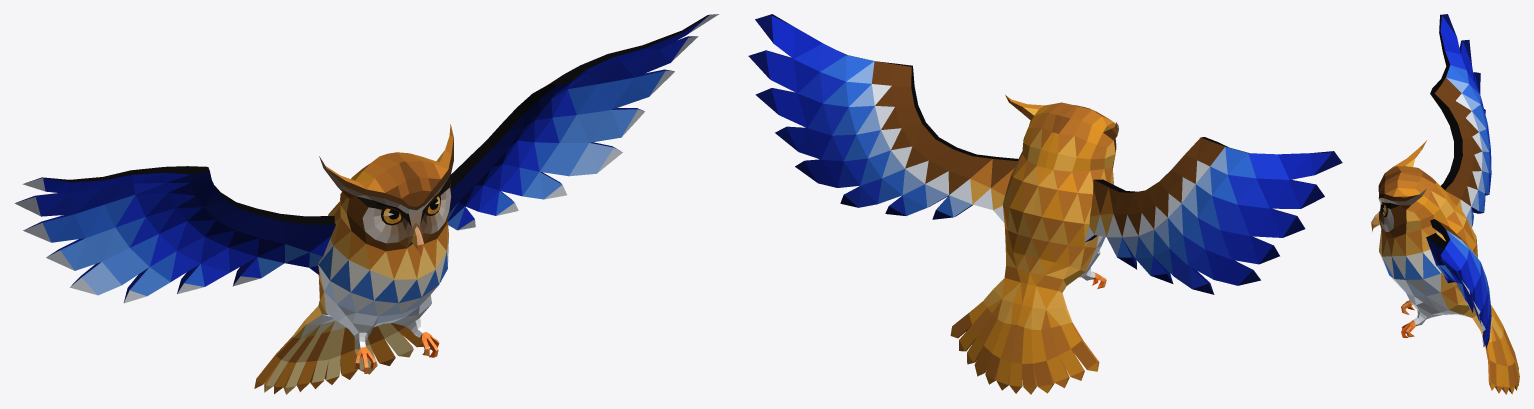
The model's file is owl04.fbx.
3 views of the same model, side by side, from view 1: azimuth 30°, elevation 25°; view 2: azimuth 150°, elevation 25°; view 3: azimuth 270°, elevation 25° (orthographic). The views are drawn at different scales.
Visible parts, largest first — view 1: Cylinder001; view 2: Cylinder001; view 3: Cylinder001.
Boxes of the visible parts, x1=… form: Cylinder001: x1=14, y1=14, x2=718, y2=394; Cylinder001: x1=748, y1=14, x2=1342, y2=394; Cylinder001: x1=1371, y1=14, x2=1519, y2=394.
Size of the model in its own units: 119 by 53.69 by 29.35.
Materials: 1 (1 with a texture image).
